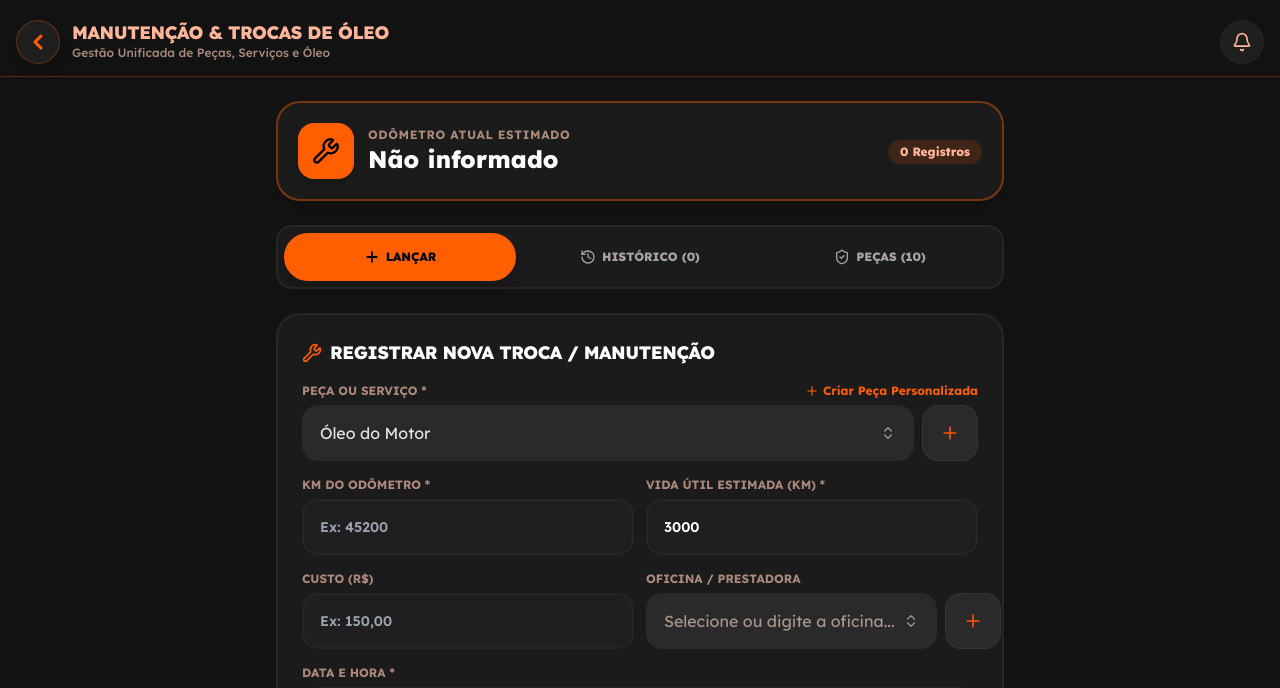
Test: Manutencao Page — Módulo Unificado de Manutenção & Trocas de Óleo › renders history tab and allows viewing past records
Click the button "Histórico (0)" at {"x": 640, "y": 257}, box [524,233,756,281]
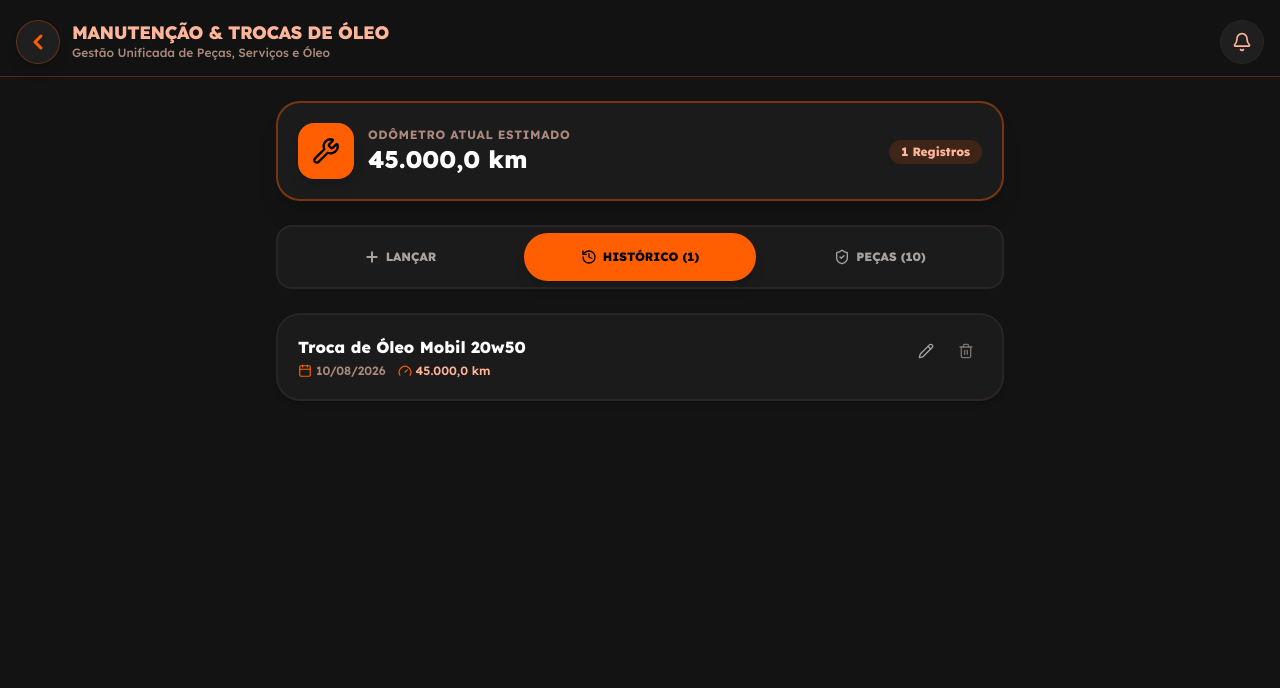
Expected: the heading "Troca de Óleo Mobil 20w50" is shown, [298,335,526,359]
